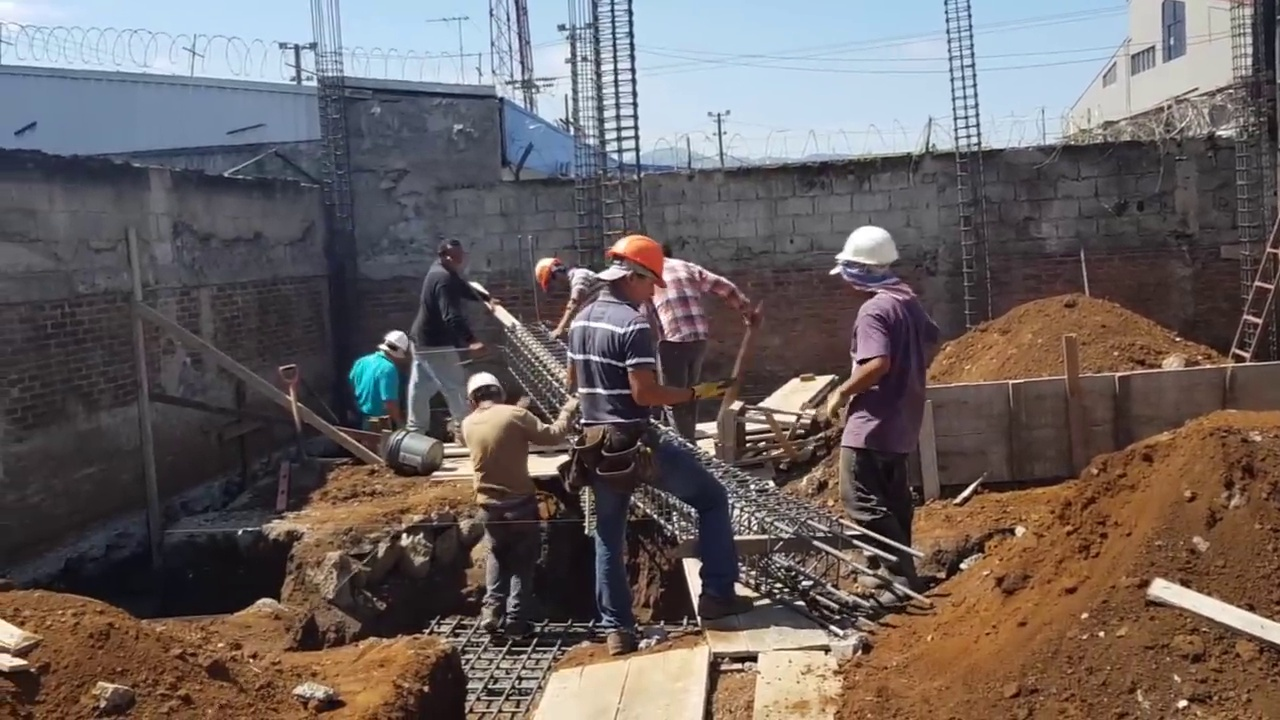helmet: (605, 234, 668, 290), (835, 222, 901, 264), (465, 368, 505, 402), (535, 256, 562, 292), (384, 329, 410, 352)
helmet-off: (438, 243, 466, 271)
helmet-on: (834, 220, 904, 301), (605, 235, 669, 309), (465, 370, 507, 411), (535, 255, 574, 294), (377, 330, 410, 362)
person: (566, 232, 754, 656), (831, 230, 929, 623), (456, 362, 577, 645), (651, 252, 754, 449), (406, 244, 493, 433), (348, 329, 410, 431), (535, 252, 603, 341)
